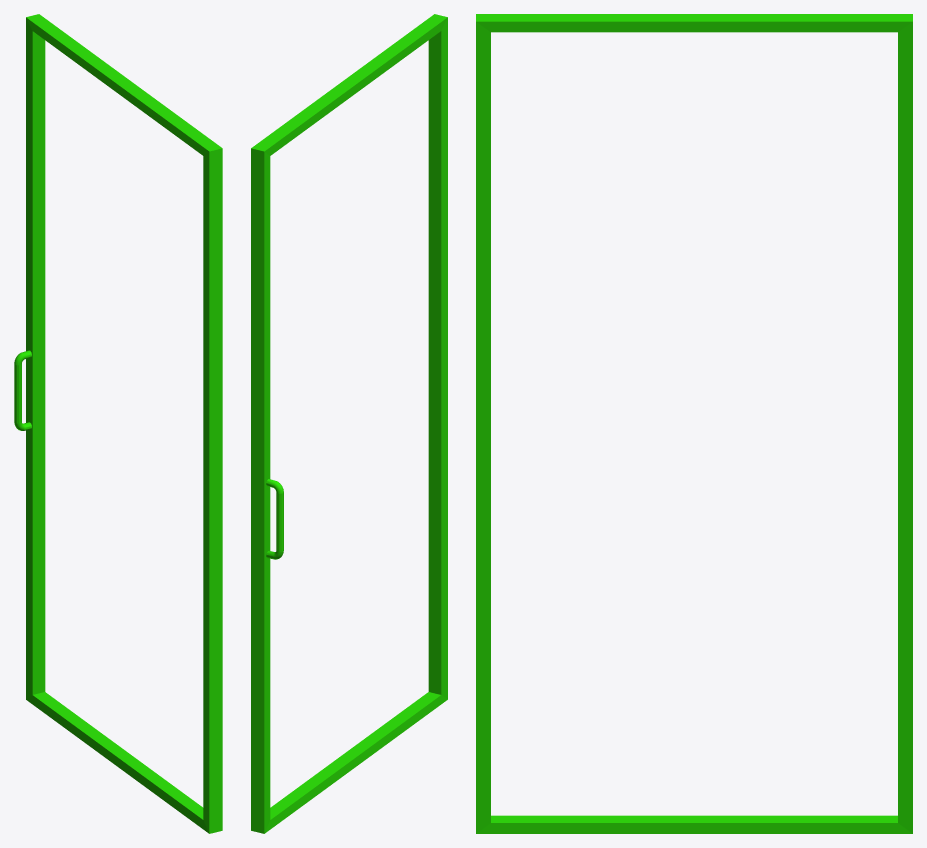
Rendered from Shop_Fridge_03_Door_Lod0.fbx.
3 views of the same model, side by side, from view 1: azimuth 30°, elevation 25°; view 2: azimuth 150°, elevation 25°; view 3: azimuth 270°, elevation 25° (orthographic). The views are drawn at different scales.
Visible parts, largest first — view 1: Shop_Fridge_03_Door_Lod0; view 2: Shop_Fridge_03_Door_Lod0; view 3: Shop_Fridge_03_Door_Lod0.
Part boxes in pixels (x1,y1,x2,y2): Shop_Fridge_03_Door_Lod0: (14,14,222,833); Shop_Fridge_03_Door_Lod0: (251,14,447,833); Shop_Fridge_03_Door_Lod0: (476,14,912,833).
Size of the model in its own units: 6.49 by 149 by 72.62.
